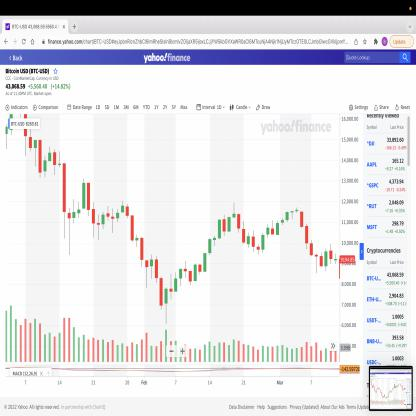Bearish: Shooting Star: (226, 199, 241, 239)
Bullish: Morning Star Doji: (251, 228, 266, 257)
